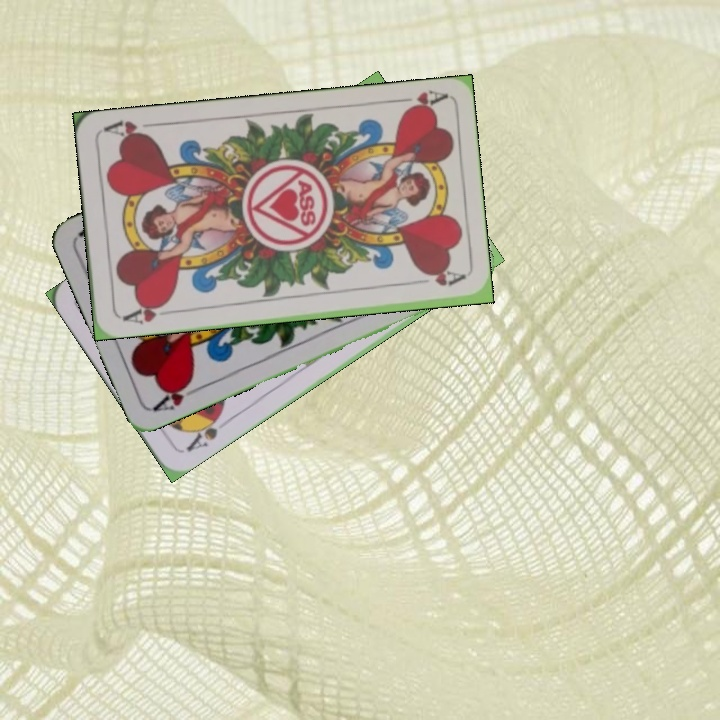HA: (150, 374, 206, 414), (388, 85, 447, 115), (118, 298, 171, 327)
SA: (181, 407, 225, 454)
